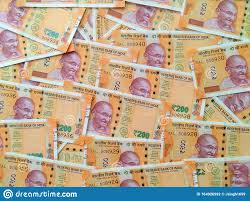twoHundred: (77, 94, 159, 141)
